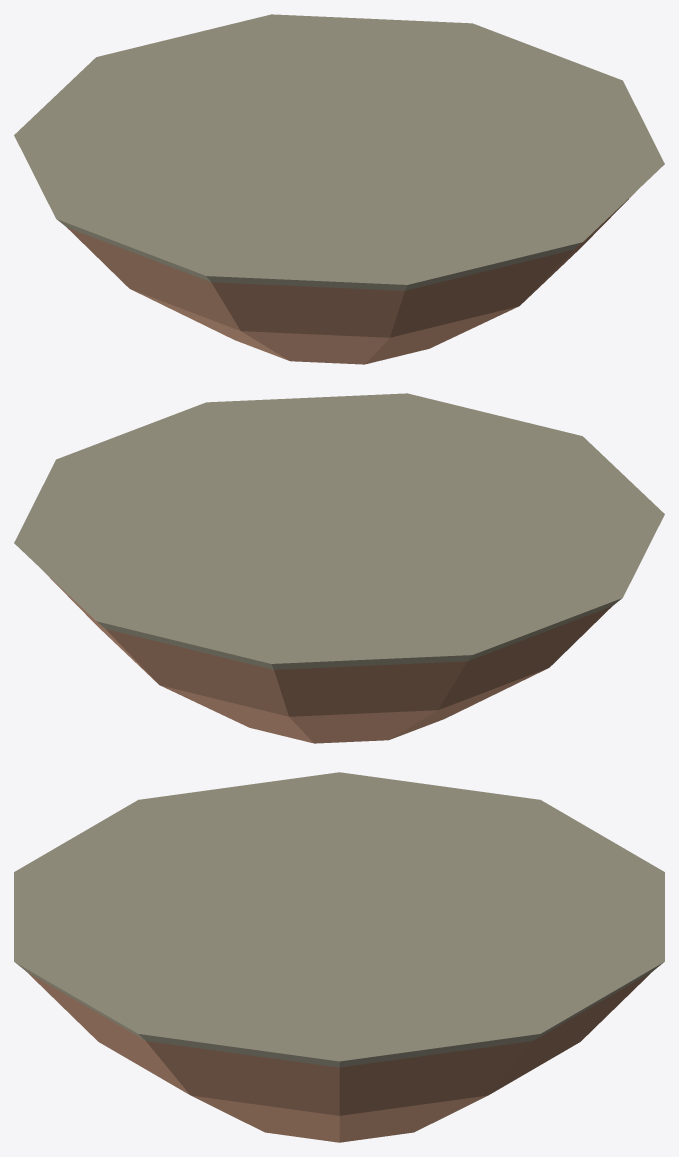
Rendered from pottery_bowl_lod1.glb.
3 views of the same model, one above another, from view 1: azimuth 30°, elevation 25°; view 2: azimuth 150°, elevation 25°; view 3: azimuth 270°, elevation 25° (orthographic). The views are drawn at different scales.
Parts seen in each view (by area): view 1: pottery_bowl; view 2: pottery_bowl; view 3: pottery_bowl.
Part boxes in pixels (left/top/right/bottom): pottery_bowl: left=14, top=14, right=664, bottom=364; pottery_bowl: left=14, top=393, right=664, bottom=743; pottery_bowl: left=14, top=772, right=664, bottom=1142.
Size of the model in its own units: 0.27 by 0.075 by 0.2568.
